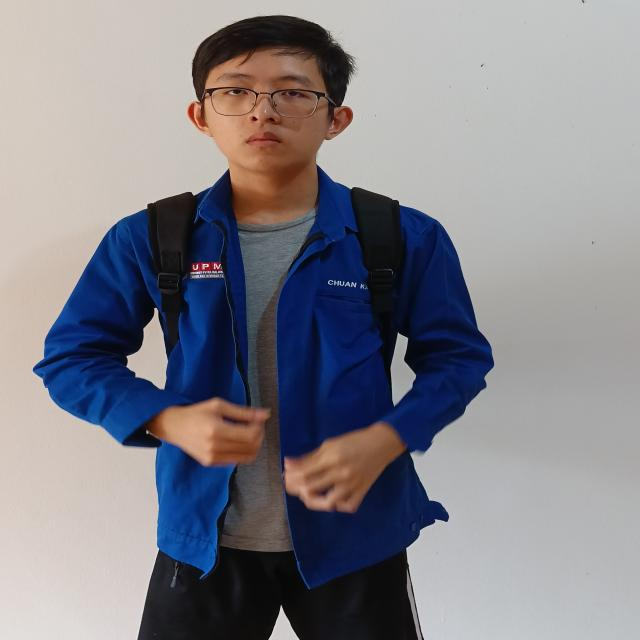person_with_labcoat: (35, 16, 493, 640)
